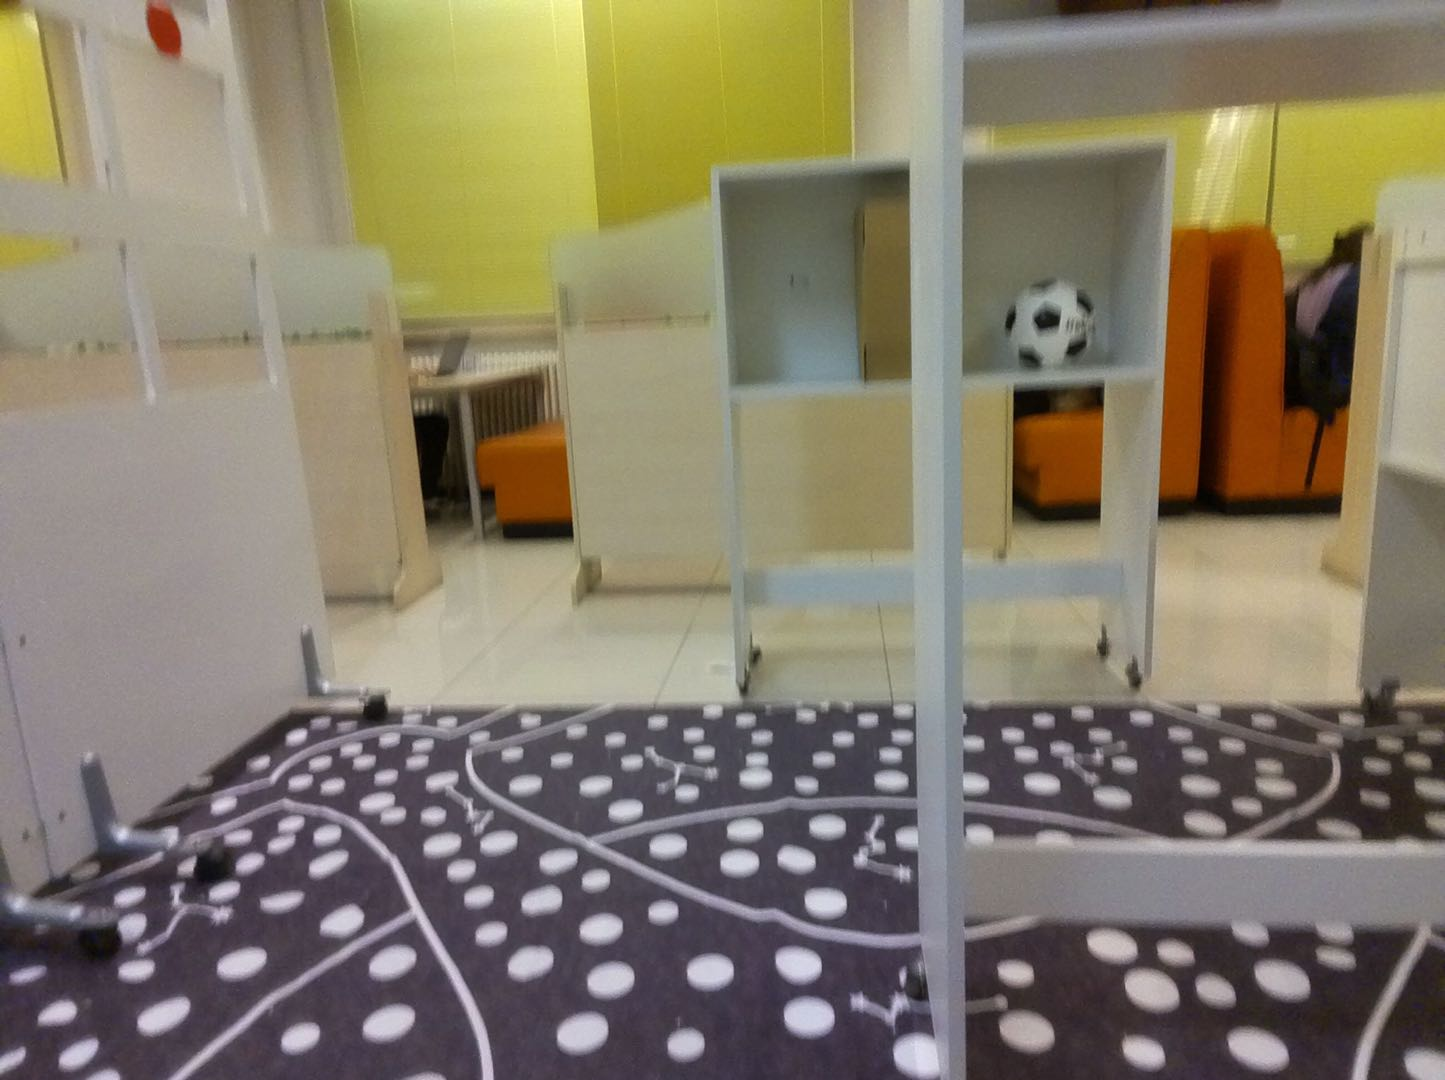football: (1003, 272, 1112, 376)
